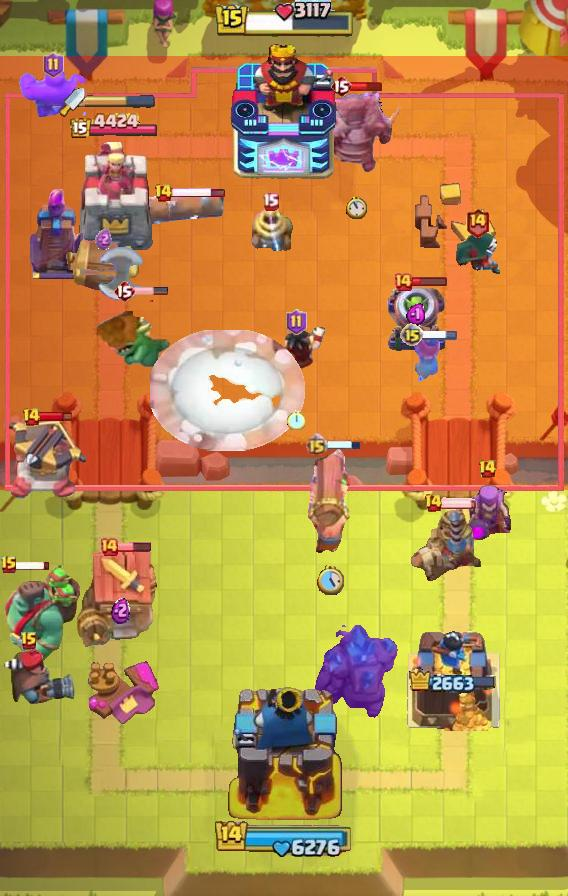bar: (73, 140, 155, 256)
battle-healer: (306, 441, 354, 555)
cannoneer-tower: (311, 625, 399, 723)
clock: (213, 0, 355, 40), (214, 818, 354, 858)
electro-spirit: (111, 597, 130, 624), (405, 302, 426, 325), (96, 228, 113, 250)
electro-wizard: (96, 287, 188, 369)
elixir: (317, 565, 343, 595), (346, 196, 367, 220), (287, 410, 305, 430)
emote: (171, 186, 226, 199), (422, 329, 459, 343), (440, 497, 478, 509), (39, 410, 74, 423), (116, 541, 152, 553), (13, 560, 51, 571), (411, 276, 448, 287), (327, 439, 362, 450), (349, 80, 383, 91), (133, 286, 169, 296)
goblin-cage: (384, 284, 448, 354)
goblin-drill: (247, 206, 293, 254)
golemite: (308, 86, 404, 172)
hog-rider: (407, 333, 445, 385)
ice-spirit-evolution-symbol: (27, 189, 87, 281)
king-tower: (223, 680, 345, 826), (230, 41, 338, 181)
king-tower-bar: (85, 95, 155, 109)
lava-hound: (0, 565, 84, 671)
lava-pup: (4, 421, 86, 501)
lumberjack: (263, 324, 329, 382)
minion: (124, 190, 226, 226)
phoenix-small: (0, 646, 78, 706)
queen-tower: (405, 621, 501, 731)
ram-rider: (408, 503, 486, 583)
rascal-girl: (461, 484, 513, 546)
royal-giant: (80, 246, 146, 302)
selected: (69, 112, 159, 140), (410, 669, 499, 696)
sparky: (77, 551, 163, 649)
tesla: (450, 232, 504, 274)
text: (465, 207, 490, 238), (400, 323, 424, 347), (43, 52, 64, 78), (286, 309, 307, 335), (304, 433, 327, 456), (330, 74, 352, 98), (113, 279, 135, 303), (393, 272, 413, 292), (22, 407, 42, 427), (478, 459, 498, 479), (99, 537, 119, 557), (154, 183, 173, 203), (425, 493, 444, 513), (0, 555, 18, 575), (20, 631, 38, 651), (261, 192, 279, 211)
the-log: (63, 239, 143, 293)
tornado: (19, 67, 87, 119)
wall-breaker: (150, 329, 305, 451)
